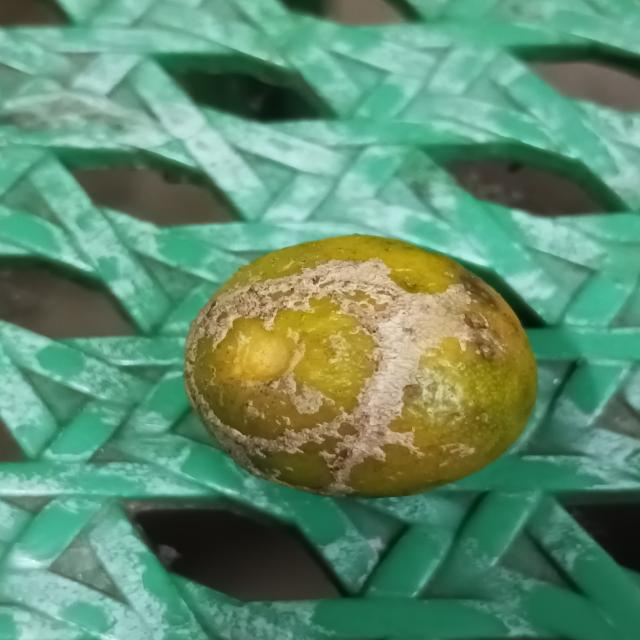thrips: (191, 232, 538, 496)
